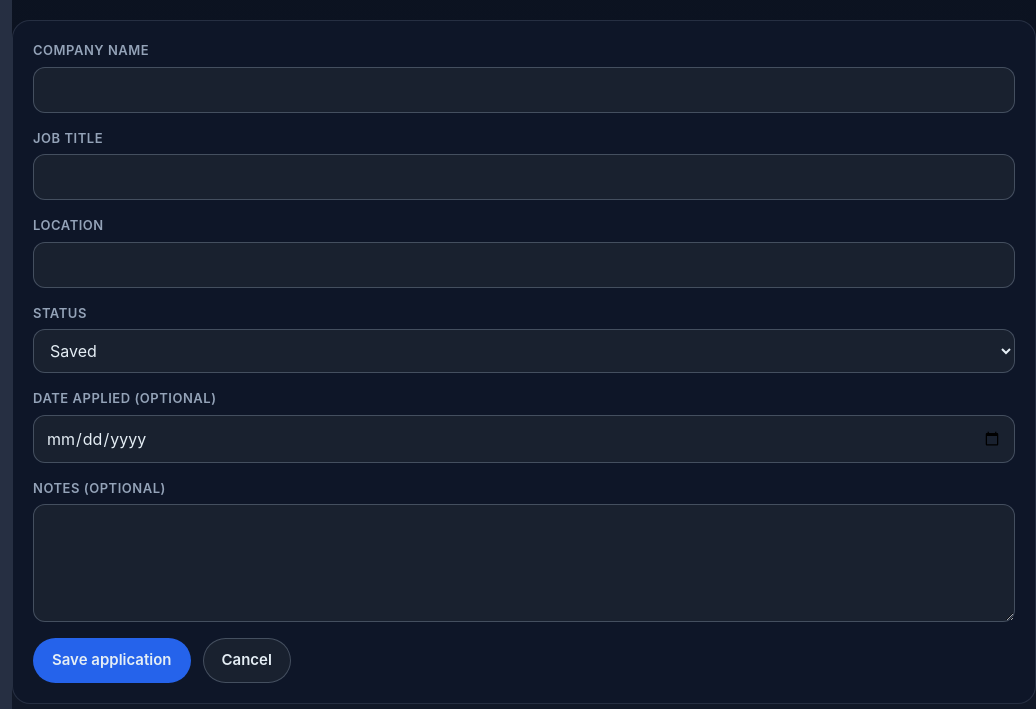
Test: application form — rejection › names every missing required field and keeps the user on the form
The width and height of the screenshot is (1036, 709).
Expected: the field labelled "Company name" is shown, [33,67,1015,113]
Click the button "Save application" at (112, 660), box [33,638,190,683]
(page scrolled)
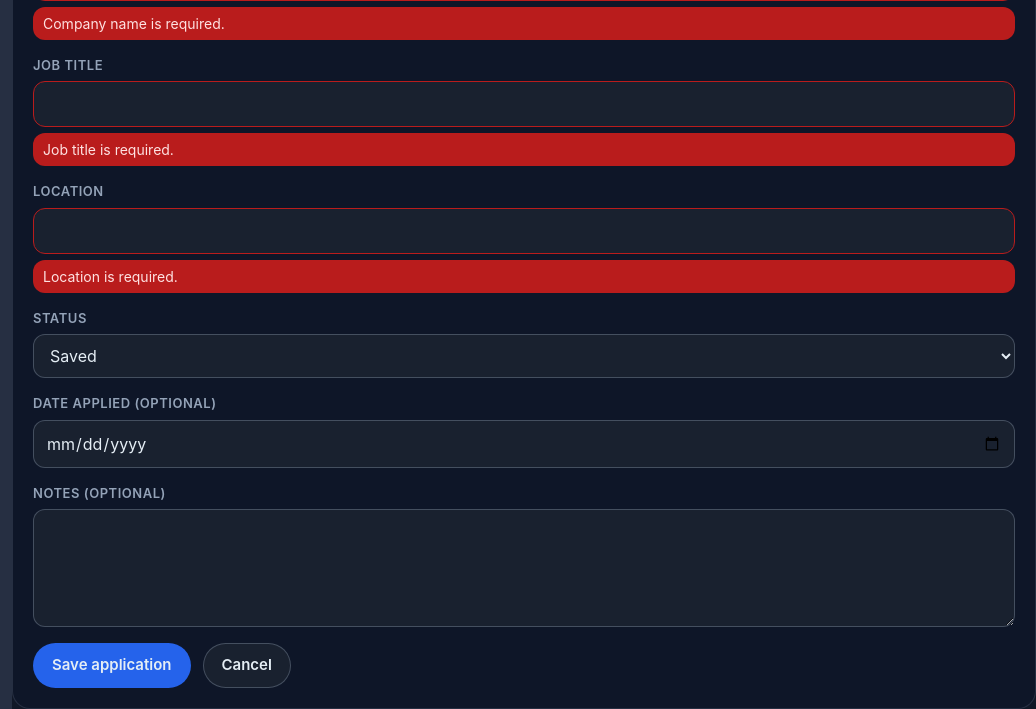
Expected: the text "Company name is required." is shown, [33,7,1015,40]
Expected: the text "Job title is required." is shown, [33,133,1015,166]
Expected: the text "Location is required." is shown, [33,260,1015,293]
